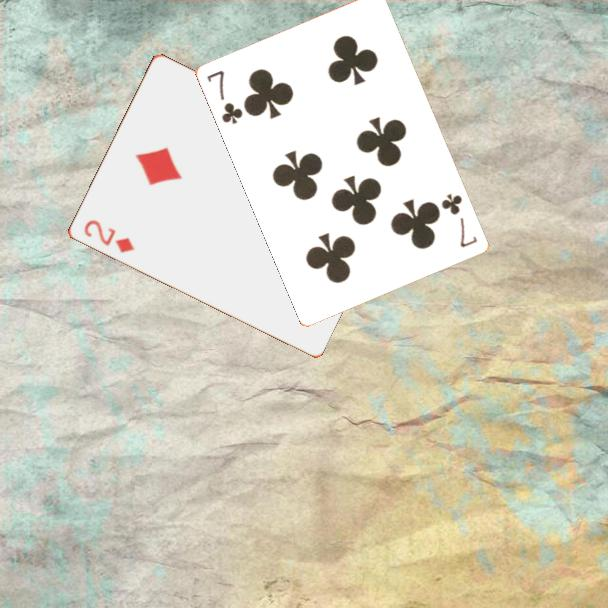c07: (438, 190, 481, 251), (204, 67, 246, 127)
d02: (80, 216, 137, 256)
